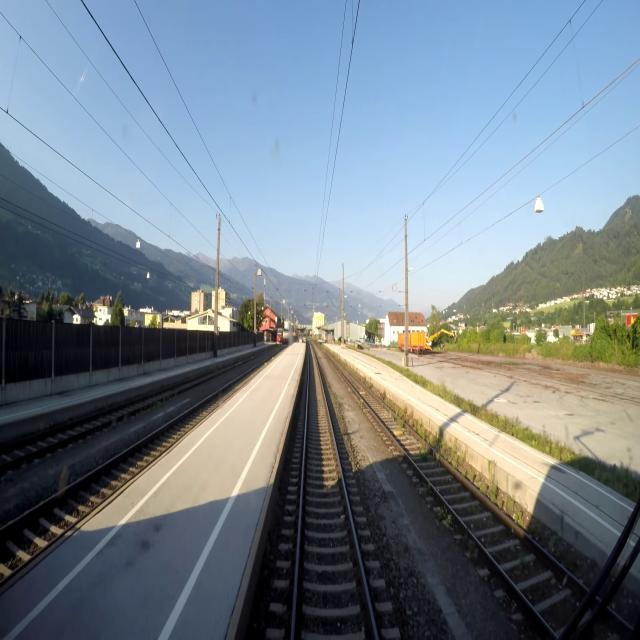rail-track: (335, 362, 585, 633), (0, 366, 260, 577), (296, 347, 374, 639), (0, 391, 169, 462)
